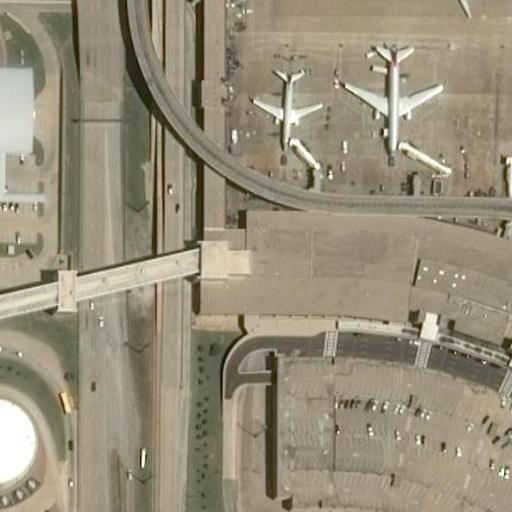Aircraft: (337, 36, 441, 159), (247, 59, 325, 159), (415, 0, 509, 18)
